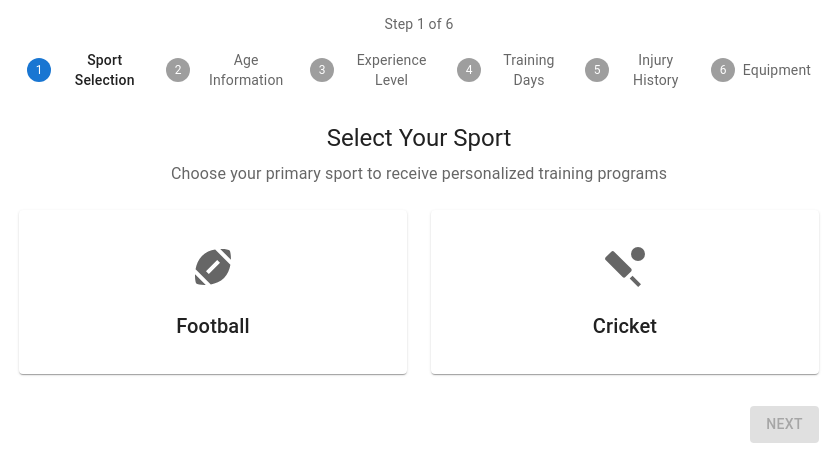
Scenario: AssessmentFormStepper › Progress Indication › should update progress indicator when completing a section
The width and height of the screenshot is (837, 463).
// Complete first step (select sport)
Click the button with aria-label "select football" at [213, 292], box [21,212,405,372]
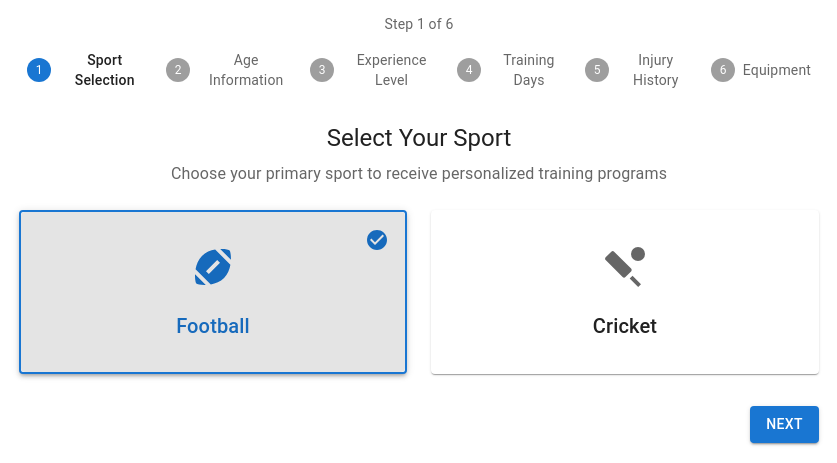
// Click Next
Click the button "Next" at [785, 425], box [750,406,819,443]
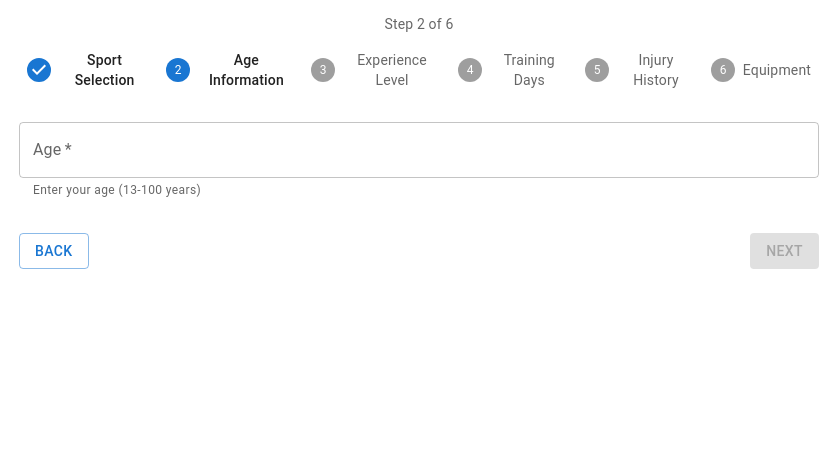
Check: the text "Step 2 of 6" is shown, box [385,16,454,32]
